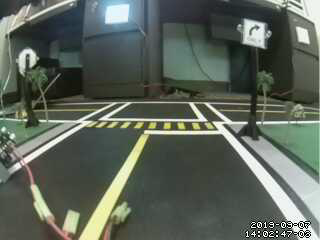Right_only_sign: (231, 13, 270, 57)
